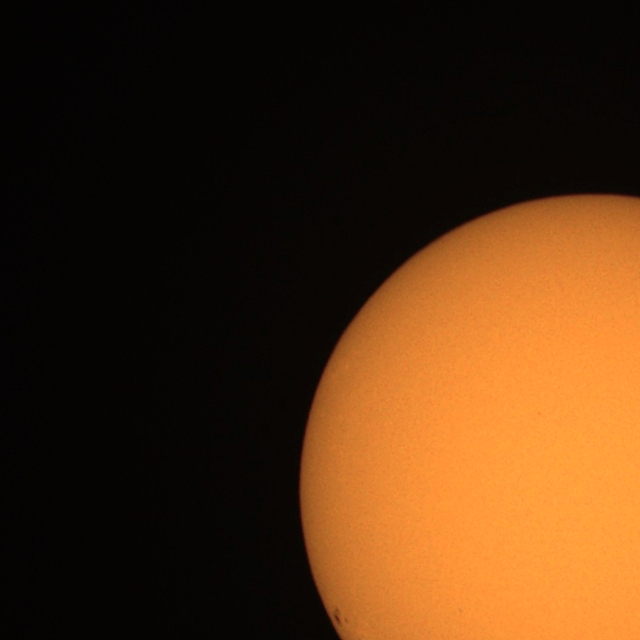sunspot: (332, 606, 350, 627)
